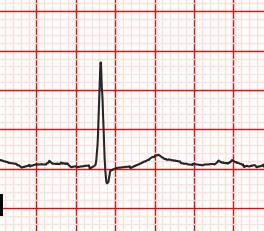ST Depression: (88, 162, 118, 186)
